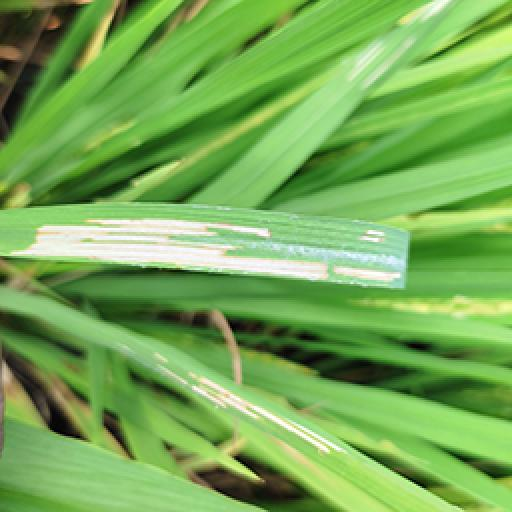Bacterial Leaf Blight: (16, 210, 406, 288), (146, 340, 346, 466), (342, 28, 410, 92)
